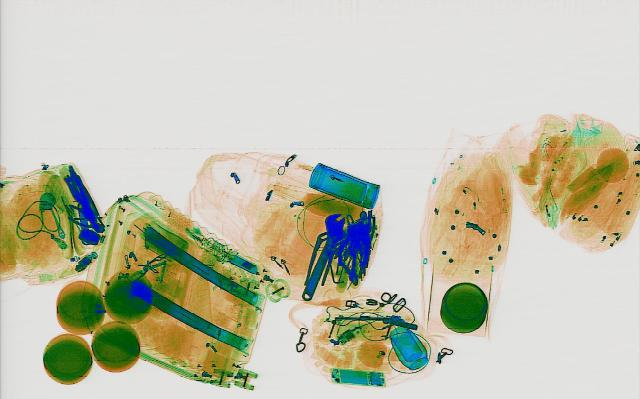Pliers: (55, 203, 112, 232)
Wrench: (291, 211, 354, 301)
